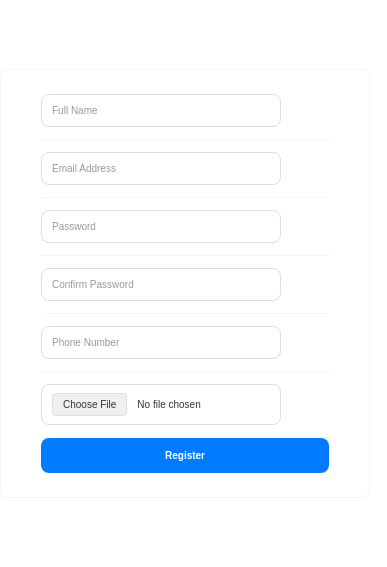
Scenario: RegistrationForm › Form Validation › shows validation errors for empty fields
# Submit empty form
Click the button "Register": (185, 455) [41,438,329,472]
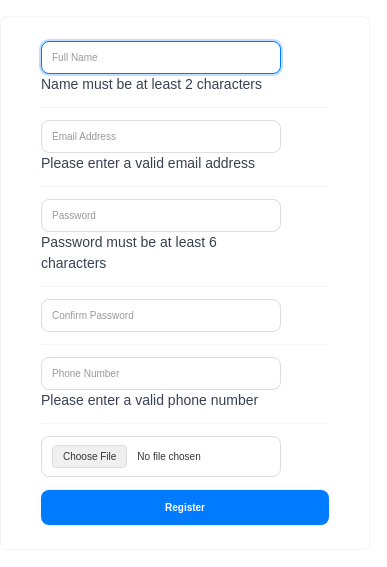
Expected: the text "Name must be at least 2 characters" is shown, [41,76,262,92]
Expected: the text "Please enter a valid email address" is shown, [41,155,255,171]
Expected: the text "Password must be at least 6 characters" is shown, [41,234,217,271]
